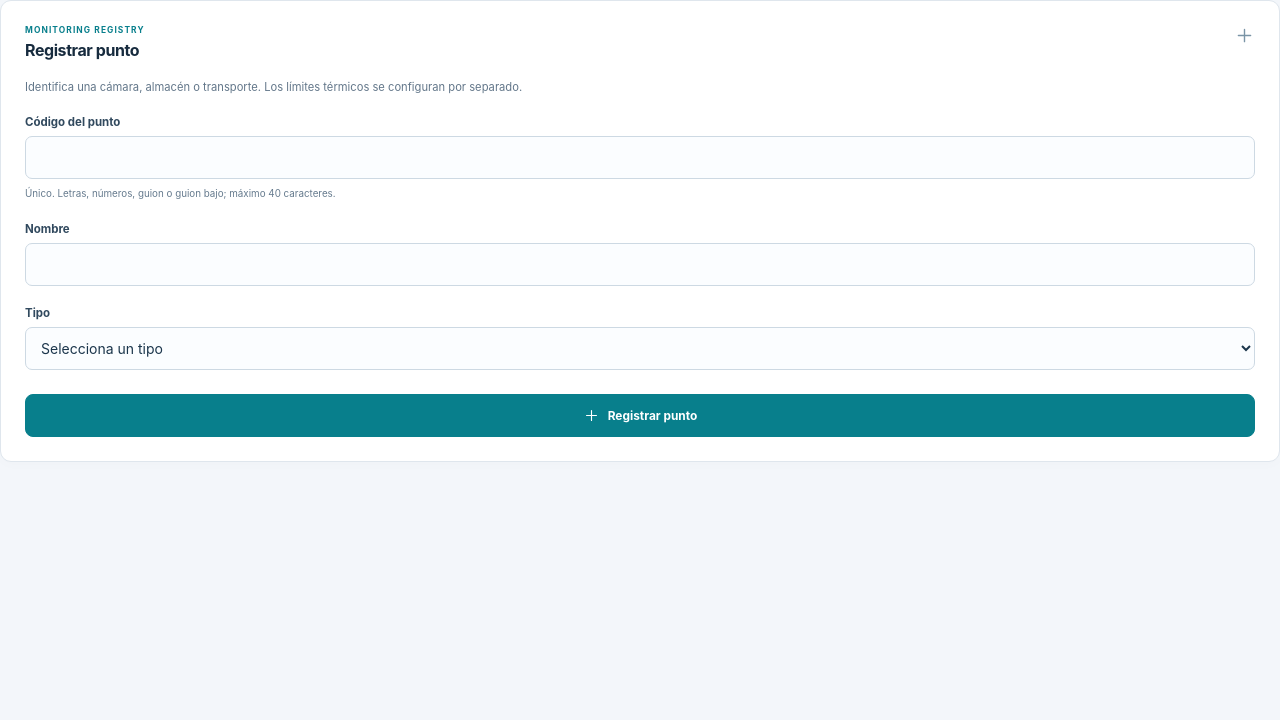
Test: registro de puntos › asocia errores de validación devueltos por el servidor al campo
Type "cam-01" into the field labelled "Código del punto" at (640, 158), box [25,136,1255,180]
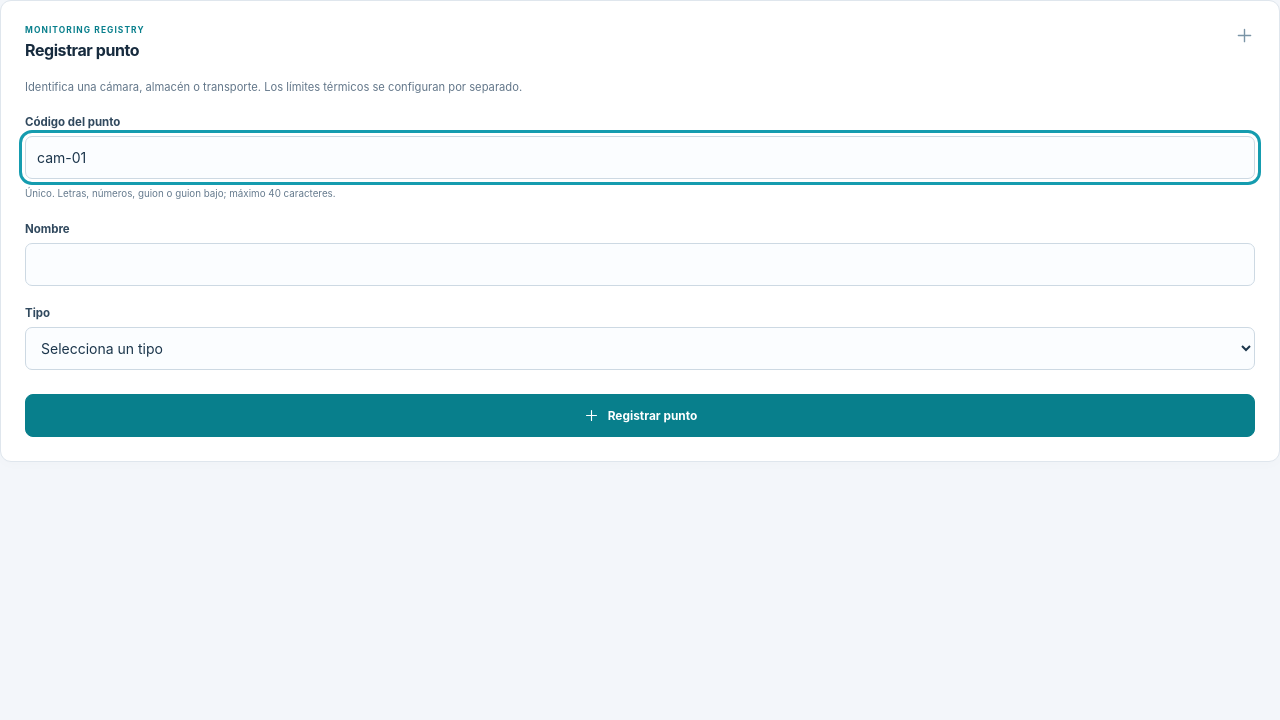
Type "Cámara de pruebas" into the field labelled "Nombre" at (640, 265), box [25,243,1255,286]
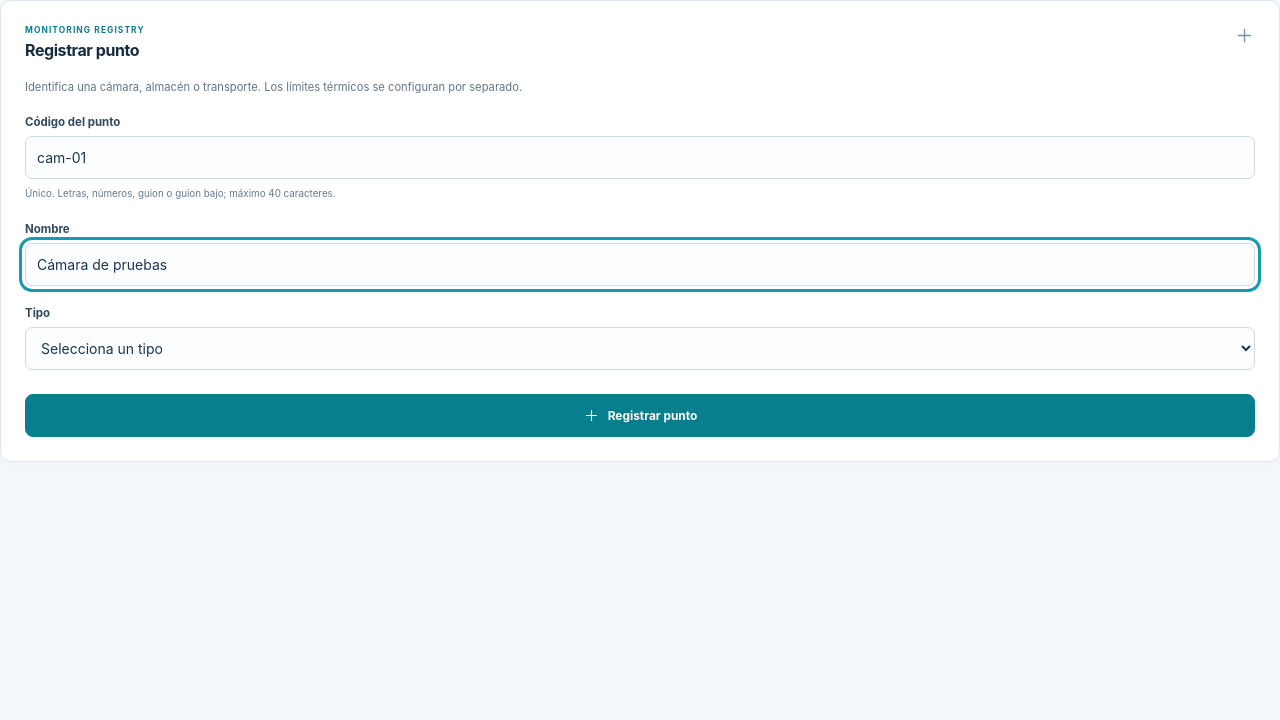
Select "Almacenamiento" in the dropdown labelled "Tipo" at (640, 349), box [25,327,1255,370]
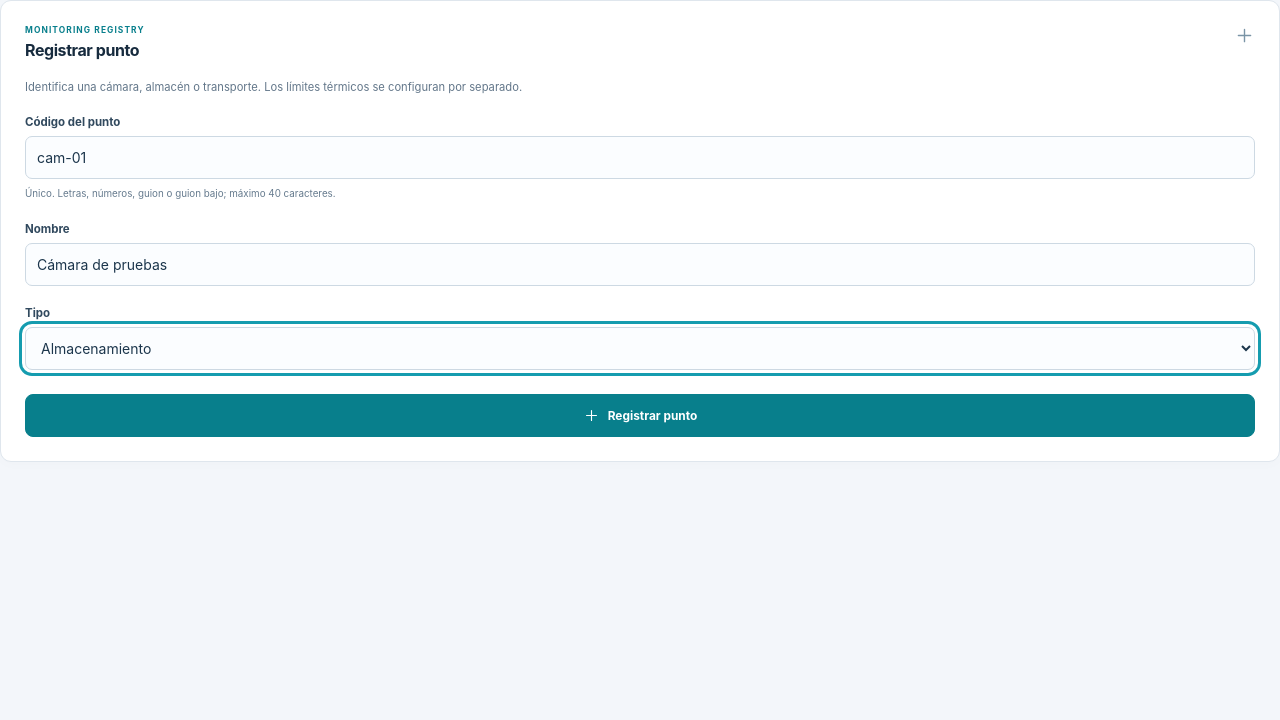
Click the button "Registrar punto" at (640, 416), box [25,394,1255,437]
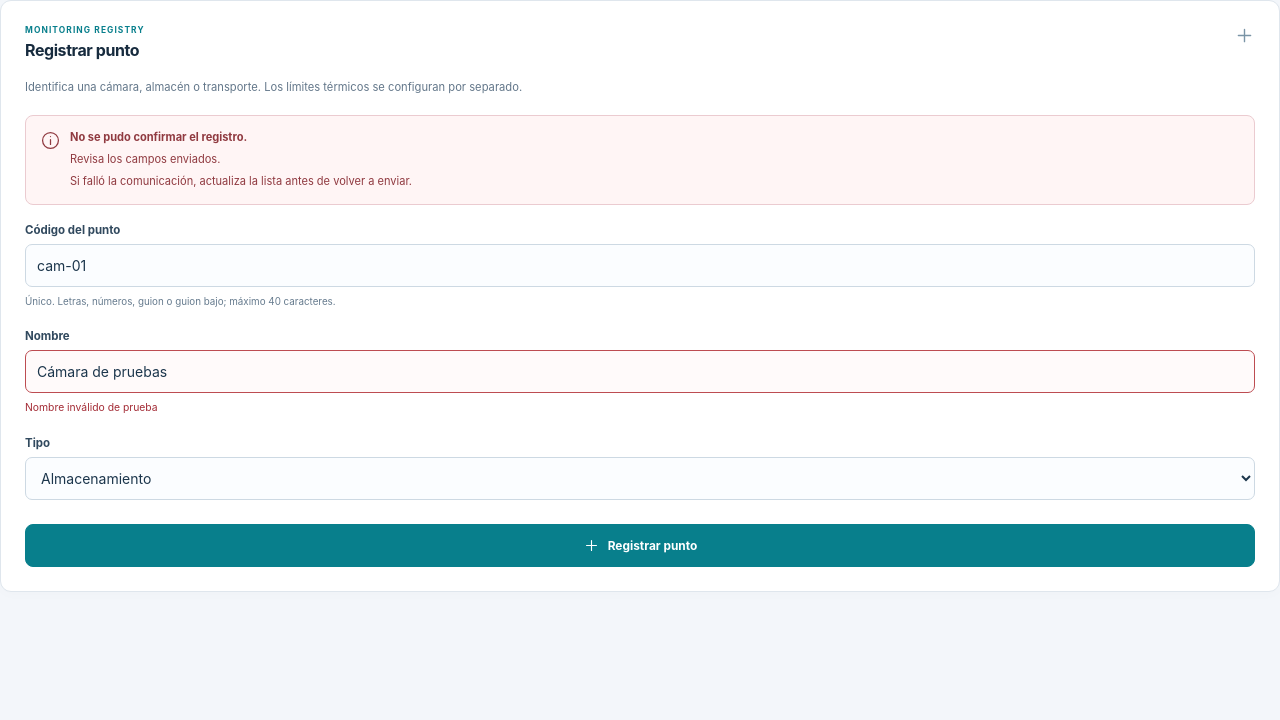
Now the text "Nombre inválido de prueba" is shown, box [25,401,158,413]
